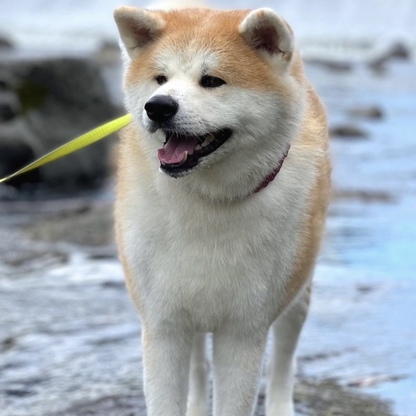akita: (107, 1, 338, 416)
